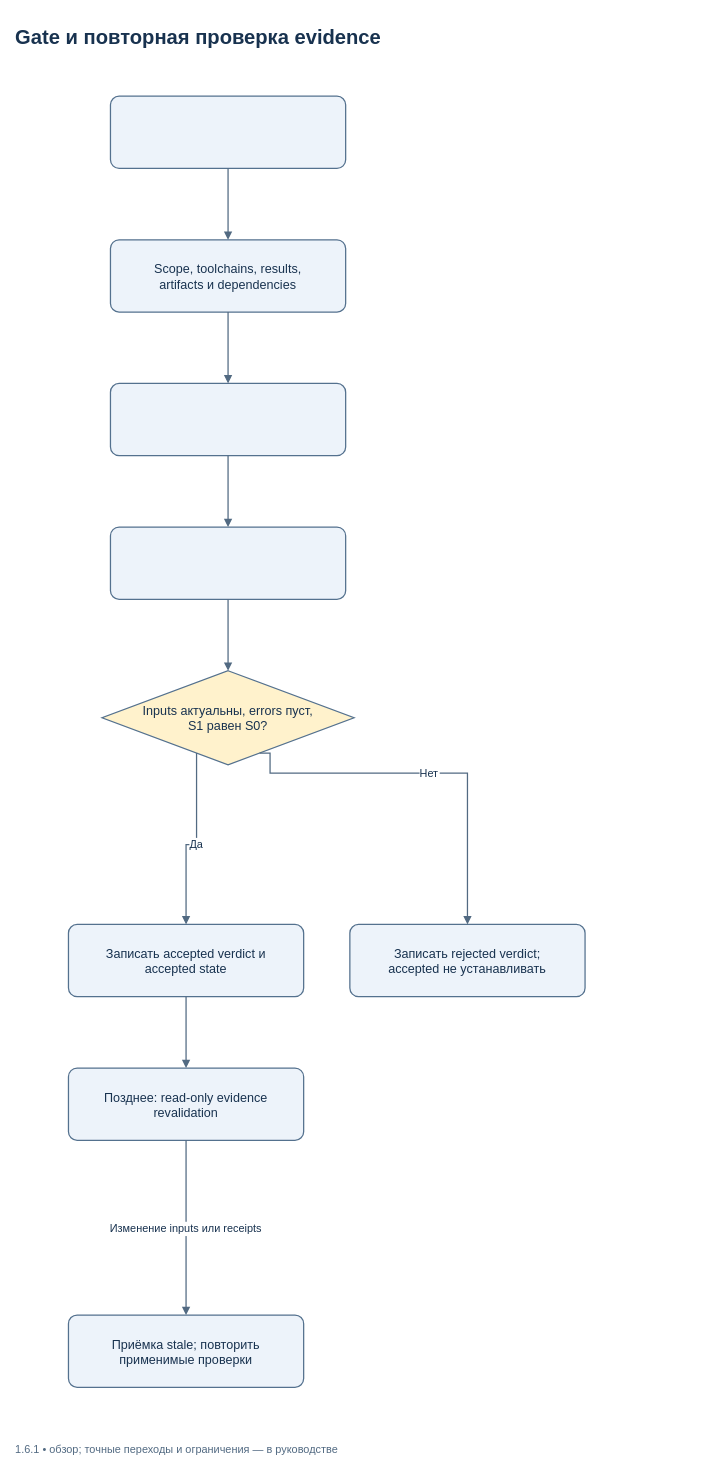
Some shapes in this 717 by 1477 pixel diagram are drawn without their labels. The shapes that lost their labels are listed below. From the top down, each one's box as (x1, y1, x2, y2) in pixels, then its label:
(109, 95, 346, 169): Workspace lease: state S0 и frozen candidate
(109, 382, 346, 456): Повторный source snapshot
(109, 526, 346, 600): State lock: прочитать актуальный S1
